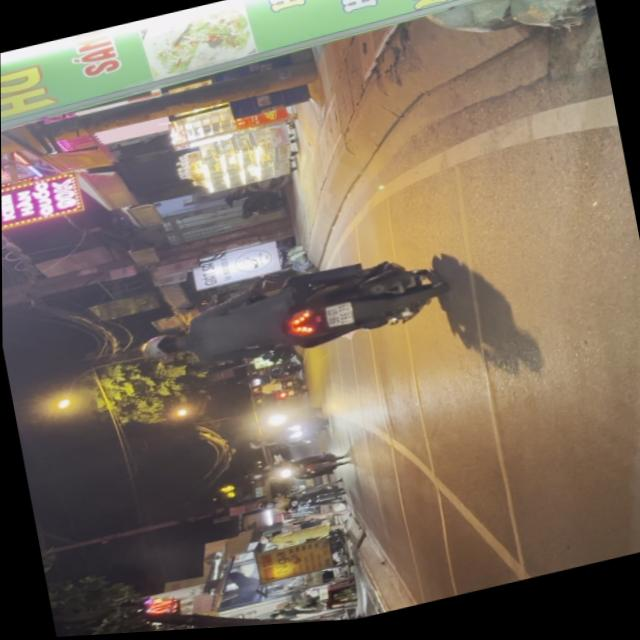helmet: (137, 328, 188, 365)
licenseplate: (131, 245, 448, 393)
nohelmet: (324, 305, 353, 332)
